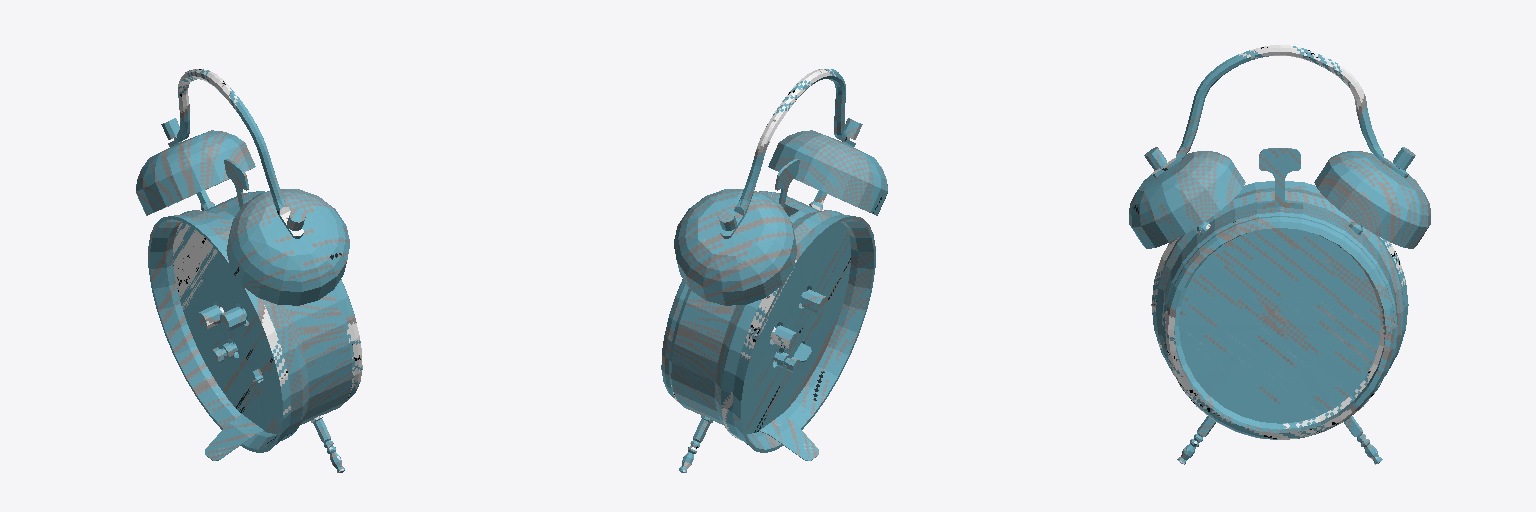
The picture shows the model from 3 angles: view 1: azimuth 30°, elevation 25°; view 2: azimuth 150°, elevation 25°; view 3: azimuth 270°, elevation 25°; orthographic projection.
Parts seen in each view (by area): view 1: model_1; view 2: model_1; view 3: model_1.
Boxes of the visible parts, <box> form: model_1: <box>136,69,362,472</box>; model_1: <box>661,69,887,472</box>; model_1: <box>1129,45,1430,464</box>.
Size of the model in its own units: 0.0352 by 0.0948 by 0.0682.
1 materials, 1 textured.